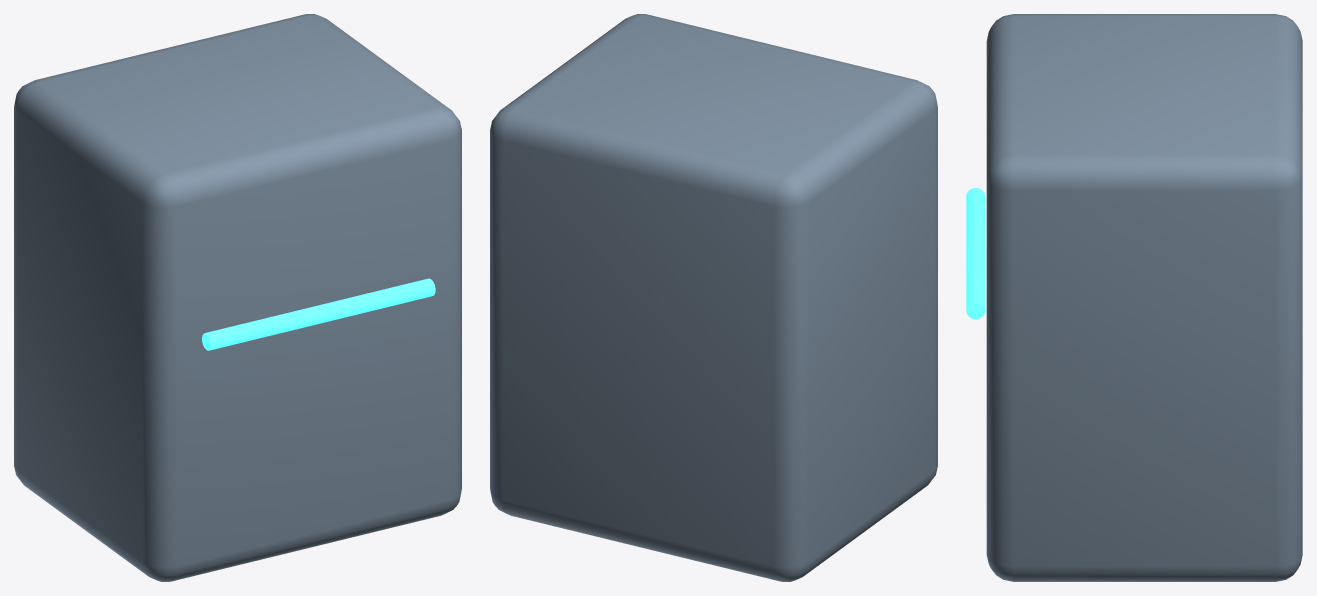
File: helm_v4.glb
3 renders of one model, left to right at view 1: azimuth 30°, elevation 25°; view 2: azimuth 150°, elevation 25°; view 3: azimuth 270°, elevation 25°, orthographic. The views are drawn at different scales.
Visible parts, largest first — view 1: GREATHELM_PRIMARY, GREATHELM_SLIT_EMISSIVE; view 2: GREATHELM_PRIMARY; view 3: GREATHELM_PRIMARY, GREATHELM_SLIT_EMISSIVE.
Boxes of the visible parts, <box> form: GREATHELM_PRIMARY: <box>14,14,461,581</box>; GREATHELM_SLIT_EMISSIVE: <box>202,278,435,350</box>; GREATHELM_PRIMARY: <box>490,14,937,581</box>; GREATHELM_PRIMARY: <box>986,14,1302,581</box>; GREATHELM_SLIT_EMISSIVE: <box>966,188,985,319</box>.
Bounding box in the file's own units: 1.4 × 1.72 × 1.23.
